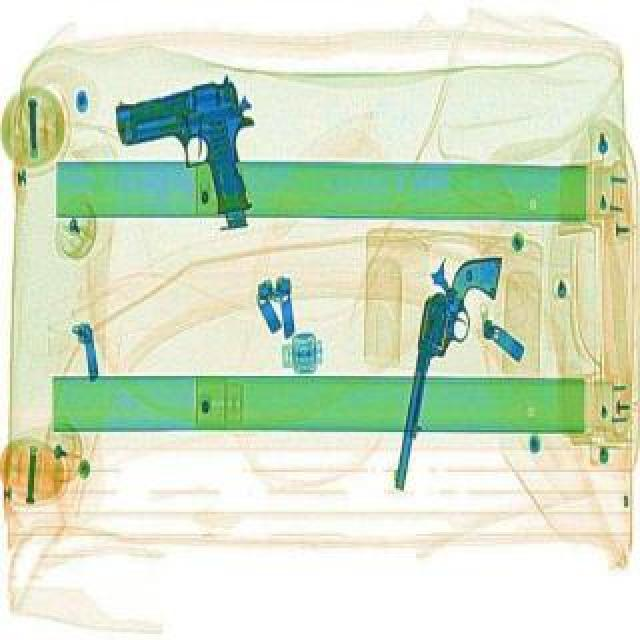gun: (392, 242, 500, 494), (108, 74, 276, 228)
